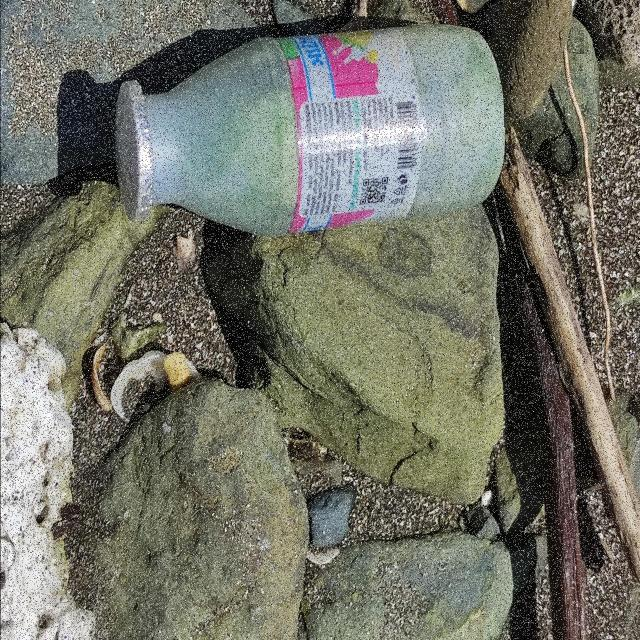plastic_waste: (117, 21, 505, 238)
